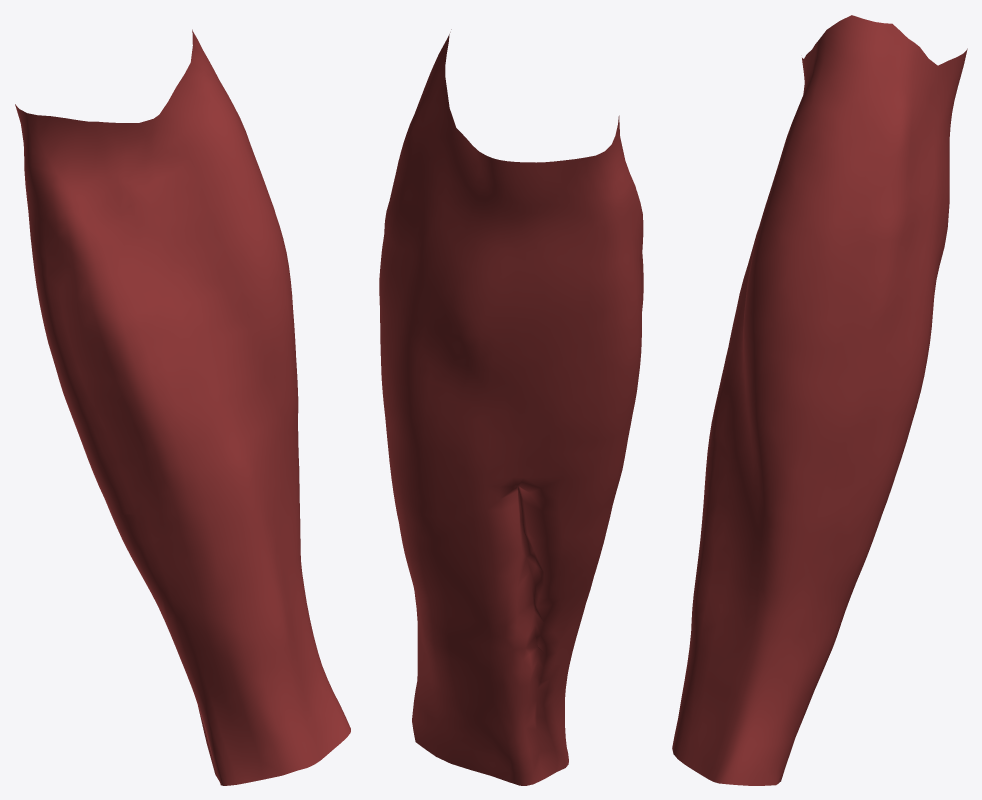
File: antebrachial-fascia-l.glb
The picture shows the model from 3 angles, left to right: view 1: azimuth 30°, elevation 25°; view 2: azimuth 150°, elevation 25°; view 3: azimuth 270°, elevation 25°; orthographic projection. The views are drawn at different scales.
Parts seen in each view (by area): view 1: Antebrachial fascia.l; view 2: Antebrachial fascia.l; view 3: Antebrachial fascia.l.
Part boxes in pixels (x1,y1,x2,y2): Antebrachial fascia.l: (15, 29, 350, 785); Antebrachial fascia.l: (379, 29, 643, 785); Antebrachial fascia.l: (672, 15, 967, 785).
Size of the model in its own units: 0.1051 by 0.2862 by 0.1025.
